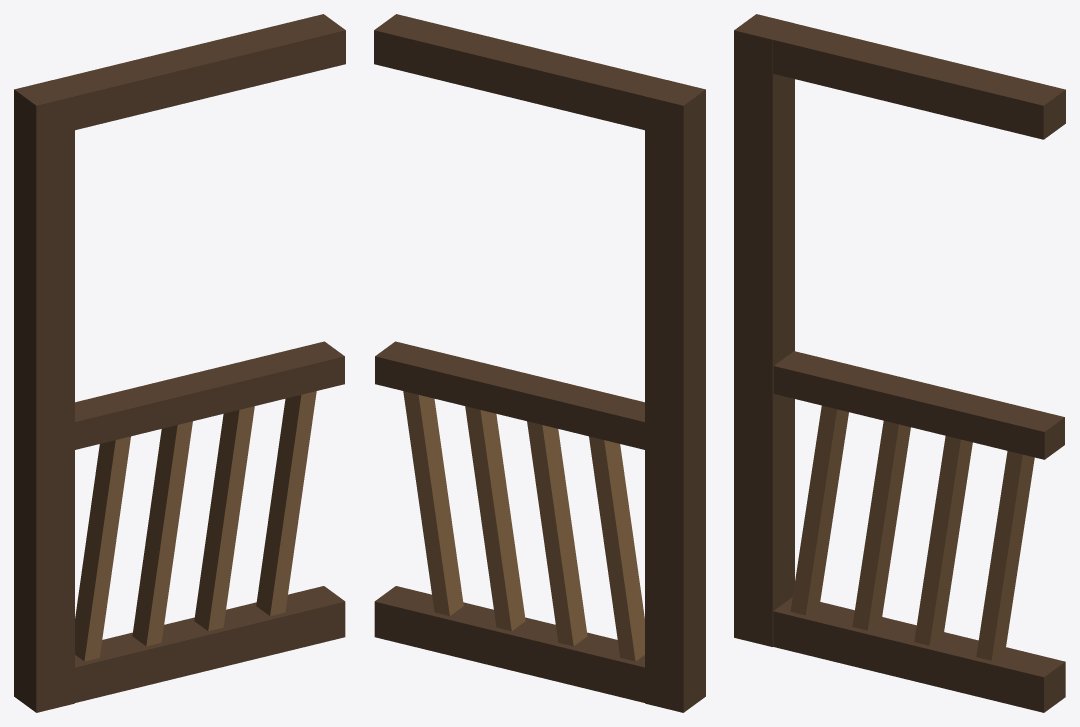
Rendered from feeding_rack_bay.glb.
3 renders of one model, left to right at view 1: azimuth 30°, elevation 25°; view 2: azimuth 150°, elevation 25°; view 3: azimuth 330°, elevation 25°, orthographic.
Visible parts, largest first — view 1: Feeding rack bay; view 2: Feeding rack bay; view 3: Feeding rack bay.
Boxes of the visible parts, left/top/right/bottom form: Feeding rack bay: left=14, top=14, right=345, bottom=712; Feeding rack bay: left=374, top=14, right=705, bottom=712; Feeding rack bay: left=734, top=14, right=1065, bottom=712.
Bounding box in the file's own units: 1 × 1.88 × 0.125.
